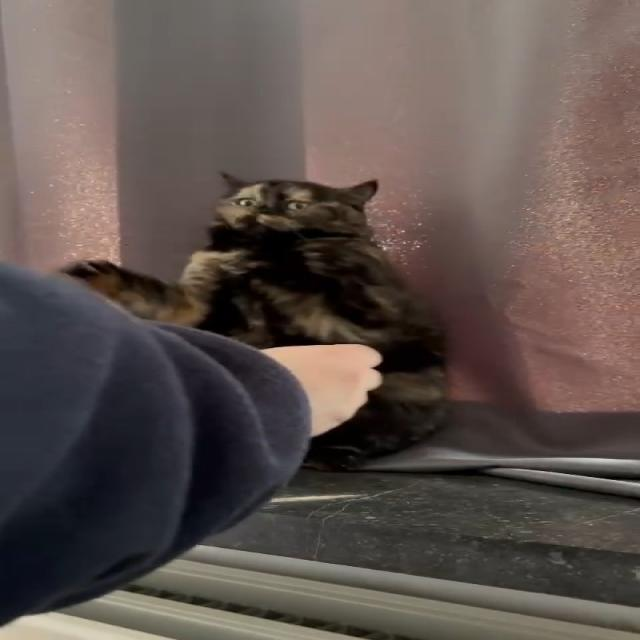authorized: (57, 171, 451, 471)
